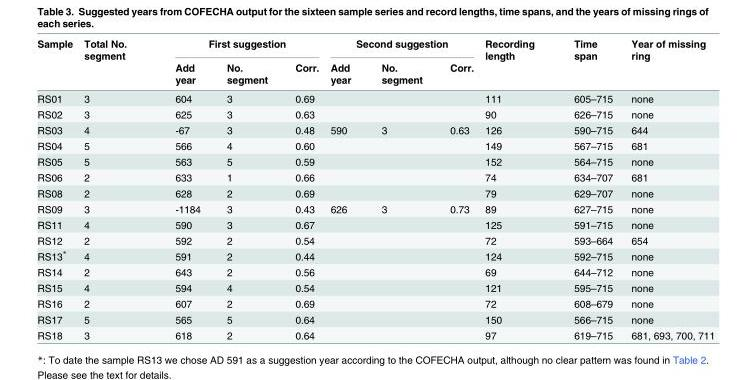table: (36, 37, 713, 340)
table column: (621, 37, 713, 340), (478, 37, 553, 340), (77, 37, 150, 340), (365, 37, 435, 340), (212, 37, 280, 340), (553, 37, 621, 340), (150, 37, 212, 340), (280, 37, 323, 340), (435, 37, 478, 340), (323, 37, 365, 340), (36, 37, 77, 340)
table column header: (36, 37, 713, 88)
table row: (36, 61, 713, 88), (36, 37, 713, 61), (36, 88, 713, 105), (36, 105, 713, 121), (36, 121, 713, 137), (36, 137, 713, 153), (36, 153, 713, 169), (36, 184, 713, 200), (36, 200, 713, 216), (36, 216, 713, 232), (36, 247, 713, 263), (36, 263, 713, 279), (36, 279, 713, 295), (36, 295, 713, 311), (36, 169, 713, 184), (36, 232, 713, 247), (36, 311, 713, 326), (36, 326, 713, 340)
table spanning cell: (621, 37, 713, 88), (150, 37, 323, 61), (478, 37, 553, 88), (77, 37, 150, 88), (323, 37, 478, 61), (553, 37, 621, 88), (36, 37, 77, 88)
